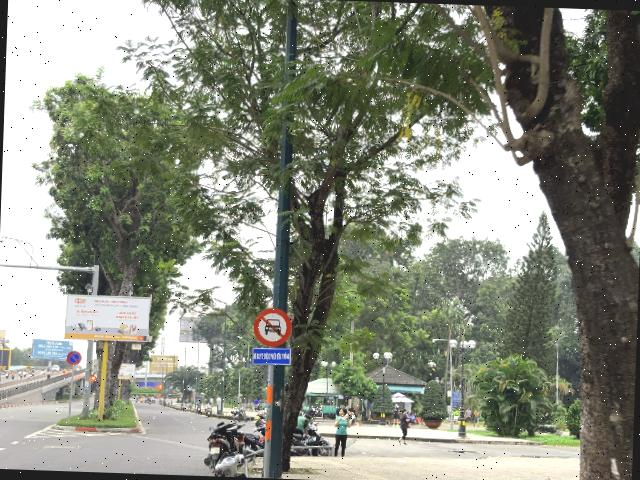cam-o-to: (254, 307, 292, 347)
